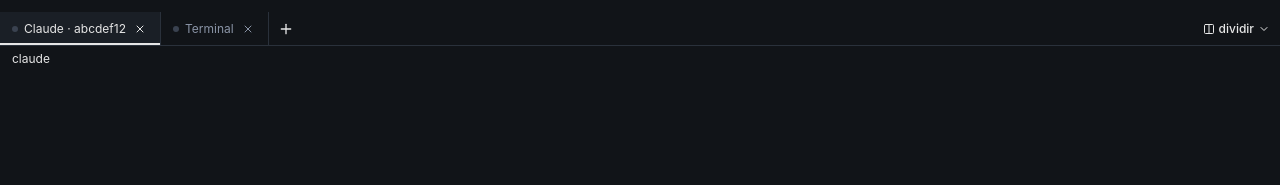
Test: an agent tab's right-click adds copiar para… after its own items; a terminal's does not (#587)
Right-click the tab "Claude · abcdef12" at (69, 28), box top-left (12, 20), bottom-right (126, 36)
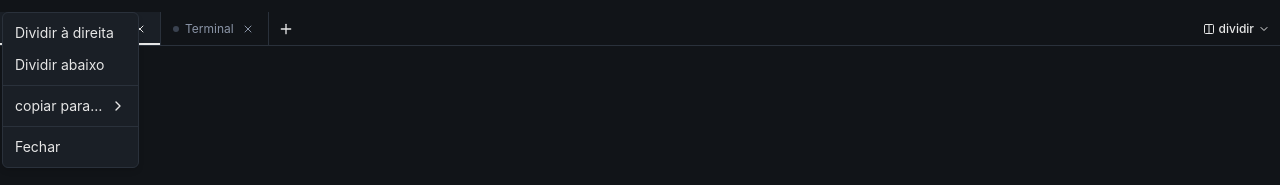
Expected: the menu items read "Dividir à direita", "Dividir abaixo", "copiar para…", "Fechar", in this order, top-left (15, 24), bottom-right (114, 41); top-left (15, 56), bottom-right (104, 73); top-left (15, 97), bottom-right (126, 114); top-left (15, 138), bottom-right (60, 155)
